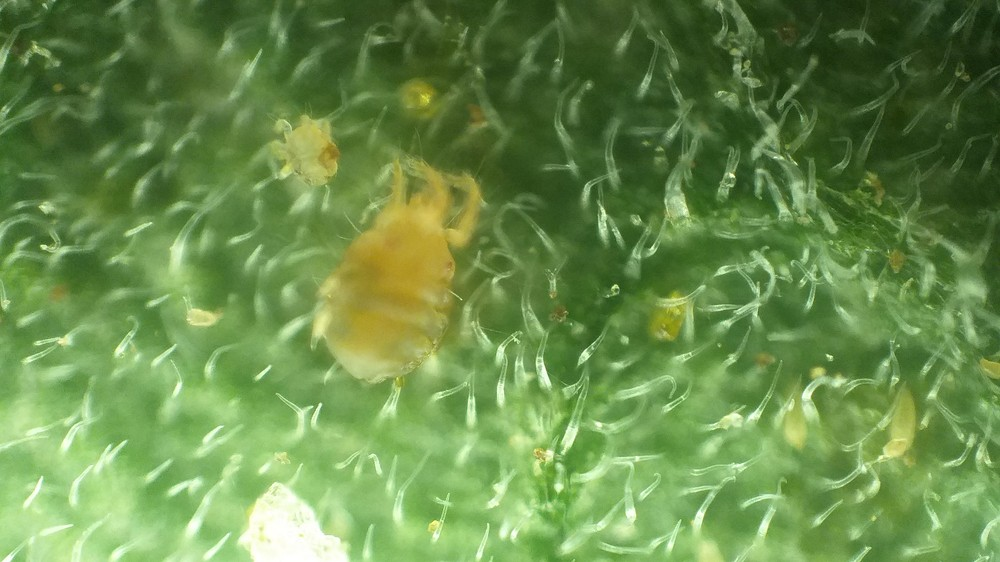Aracnido Rojo: (288, 147, 509, 394), (271, 108, 371, 197)
